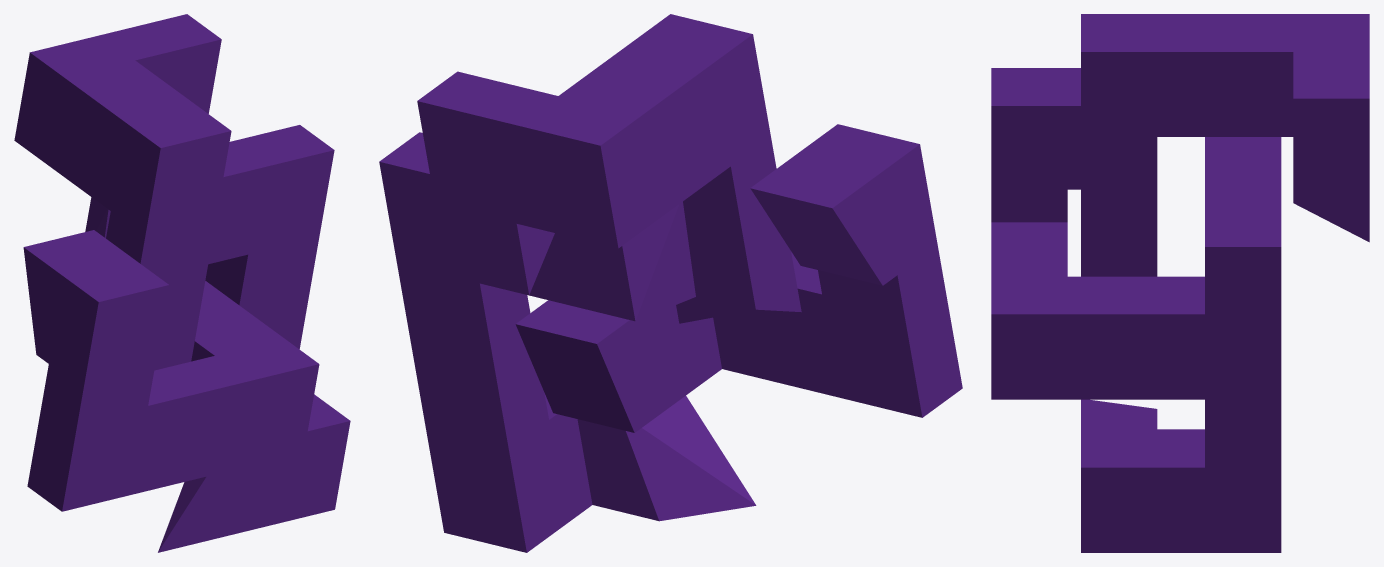
File: optical-illusion.glb
3 views of the same model, side by side, from view 1: azimuth 30°, elevation 25°; view 2: azimuth 150°, elevation 25°; view 3: azimuth 270°, elevation 25° (orthographic). The views are drawn at different scales.
Parts seen in each view (by area): view 1: Object_2; view 2: Object_2; view 3: Object_2.
Boxes of the visible parts, x1=… form: Object_2: x1=14, y1=14, x2=350, y2=552; Object_2: x1=379, y1=14, x2=962, y2=552; Object_2: x1=991, y1=14, x2=1369, y2=552.
Size of the model in its own units: 4.51 by 4.71 by 3.62.
